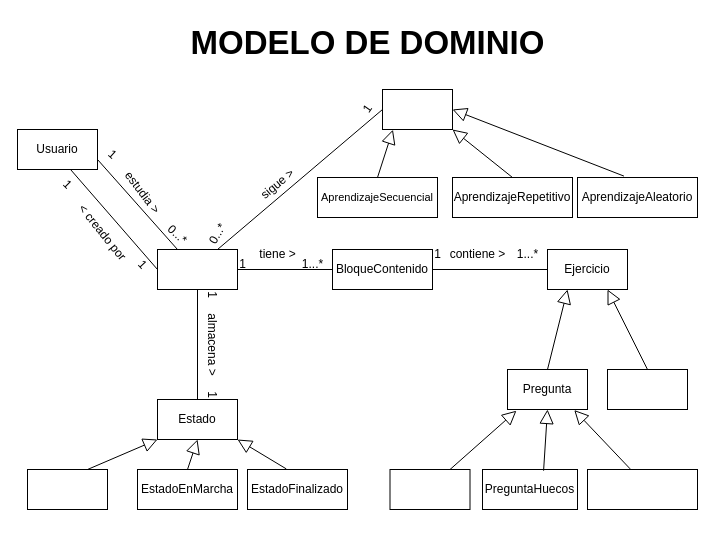
This 715x542 diagram has some shape labels left out. The shapes that lost their labels are listed below. From the top down, each one's centre as x and y in pixels, then its label:
At (x=417, y=109): "Aprendizaje".
At (x=197, y=269): "Curso".
At (x=647, y=389): "Flashcard".
At (x=67, y=489): "EstadoNuevo".
At (x=429, y=489): "PreguntaTest".
At (x=642, y=489): "PreguntaTraduccion".
